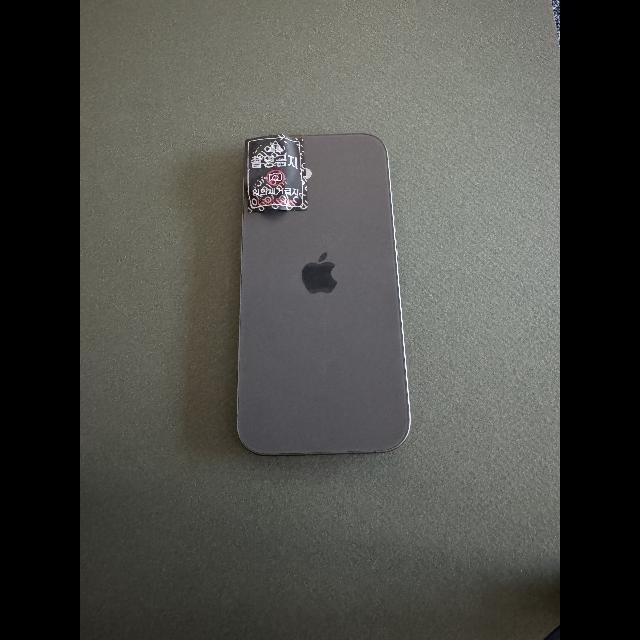phone: (236, 132, 412, 456)
sticker: (245, 134, 308, 212)
